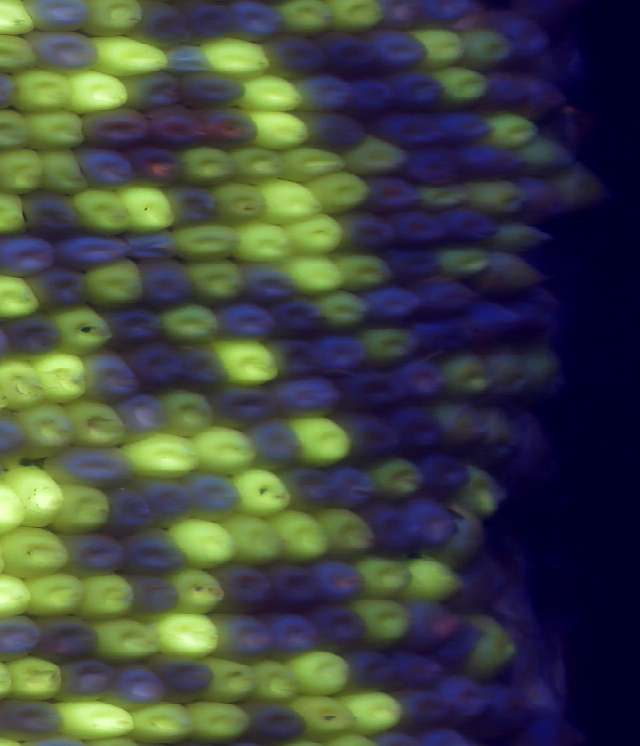fluorescent: (4, 460, 67, 533), (462, 611, 520, 686), (0, 520, 72, 580), (150, 615, 224, 668), (78, 257, 152, 309), (426, 508, 488, 569), (169, 515, 237, 570), (289, 413, 354, 470), (227, 466, 295, 519), (288, 692, 361, 741), (191, 423, 256, 477), (216, 339, 284, 390), (186, 698, 257, 746), (352, 600, 415, 654), (125, 435, 200, 480), (201, 652, 260, 709), (227, 512, 283, 572), (91, 617, 161, 664), (55, 484, 115, 537), (1, 652, 65, 701), (71, 395, 126, 452), (92, 35, 170, 75), (406, 552, 466, 604), (55, 304, 116, 355), (247, 655, 301, 712), (315, 505, 374, 557), (79, 570, 139, 621), (346, 690, 407, 740), (243, 109, 312, 153), (37, 146, 94, 199), (119, 182, 177, 234), (305, 171, 372, 216), (290, 651, 350, 701), (344, 133, 410, 178), (58, 699, 134, 738), (27, 572, 90, 619), (358, 556, 421, 603), (168, 568, 229, 616), (32, 353, 87, 406), (204, 38, 273, 80), (170, 225, 246, 263), (17, 405, 77, 453), (273, 507, 326, 561), (61, 70, 127, 113), (286, 212, 345, 260), (186, 260, 248, 305), (158, 387, 215, 435), (369, 456, 426, 504), (10, 68, 75, 110), (262, 180, 321, 226), (276, 145, 347, 183), (73, 187, 128, 236), (26, 110, 90, 152), (460, 466, 508, 520), (215, 181, 272, 226), (0, 355, 44, 413), (440, 352, 490, 403), (161, 302, 220, 344), (236, 221, 293, 264), (132, 702, 198, 739), (336, 250, 394, 292), (464, 176, 528, 214), (233, 144, 288, 188), (283, 255, 345, 294), (435, 401, 478, 456), (461, 27, 517, 69), (274, 1, 338, 37), (0, 148, 49, 195), (561, 164, 608, 213), (434, 67, 494, 105), (363, 324, 416, 367), (475, 398, 511, 460), (243, 74, 301, 112), (178, 149, 237, 185), (490, 218, 552, 252), (489, 110, 539, 152), (0, 272, 42, 322), (409, 29, 464, 67), (82, 1, 145, 34), (322, 290, 370, 331), (526, 344, 563, 397), (437, 242, 493, 276), (419, 179, 474, 212), (331, 1, 388, 32), (490, 351, 527, 398), (519, 137, 573, 168), (0, 187, 31, 239), (0, 32, 42, 70), (0, 104, 33, 152), (0, 576, 35, 619), (0, 1, 39, 38)
nonfluorescent: (341, 411, 412, 468), (46, 448, 140, 488), (128, 565, 192, 620), (73, 351, 141, 402), (358, 502, 417, 560), (209, 560, 276, 611), (58, 529, 128, 576), (36, 613, 103, 662), (487, 678, 536, 744), (31, 29, 106, 72), (210, 610, 273, 661), (23, 189, 86, 238), (76, 107, 153, 147), (177, 338, 231, 394), (125, 341, 187, 389), (302, 109, 368, 154), (453, 142, 529, 181), (2, 313, 66, 359), (74, 142, 134, 191), (213, 301, 283, 343), (246, 421, 307, 469), (311, 557, 370, 606), (131, 3, 192, 50), (416, 448, 474, 497), (443, 670, 492, 728), (186, 470, 243, 519), (54, 237, 133, 272), (413, 319, 482, 359), (271, 377, 347, 413), (0, 698, 66, 739), (296, 72, 356, 117), (101, 486, 155, 536), (110, 666, 170, 711), (278, 34, 334, 82), (380, 110, 447, 150), (161, 657, 219, 703), (224, 1, 286, 44), (215, 383, 279, 424), (138, 265, 196, 310), (360, 170, 422, 212), (404, 497, 457, 546), (247, 702, 306, 746), (403, 146, 466, 187), (318, 31, 374, 77), (177, 69, 243, 108), (119, 532, 185, 571), (371, 32, 432, 74), (197, 104, 258, 146), (149, 105, 207, 149), (468, 293, 517, 345), (392, 71, 452, 113), (104, 305, 167, 345), (362, 287, 428, 325), (392, 401, 440, 453), (32, 268, 90, 311), (317, 607, 371, 653), (176, 1, 238, 41), (396, 687, 455, 729), (278, 469, 338, 510), (517, 75, 568, 123), (499, 15, 551, 62), (270, 300, 327, 342), (393, 209, 449, 251), (349, 370, 405, 412), (270, 562, 320, 609), (266, 610, 318, 655), (160, 186, 218, 226), (275, 336, 327, 380), (20, 1, 96, 31), (442, 209, 502, 247), (2, 235, 60, 274), (129, 146, 184, 187), (119, 74, 181, 110), (519, 287, 559, 342), (143, 480, 193, 524), (393, 647, 448, 687), (61, 660, 116, 700), (329, 467, 380, 510), (437, 109, 494, 147), (318, 331, 365, 377), (405, 597, 448, 647), (119, 229, 180, 263), (418, 280, 475, 316), (349, 213, 396, 256), (395, 358, 442, 401), (351, 75, 397, 118), (0, 616, 43, 660), (520, 179, 564, 221), (242, 264, 286, 304), (118, 397, 164, 434), (384, 252, 444, 280), (486, 73, 524, 116), (349, 653, 395, 687), (0, 413, 32, 456), (421, 1, 472, 24), (386, 1, 420, 32)
